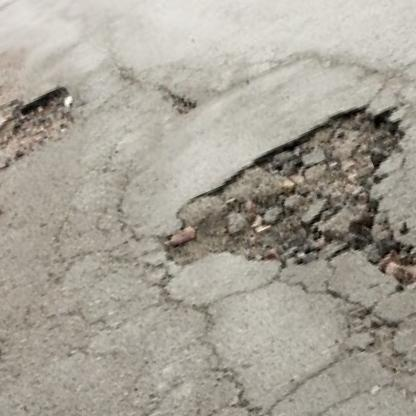pothole: (135, 84, 416, 318), (6, 79, 92, 158), (152, 73, 201, 121)
